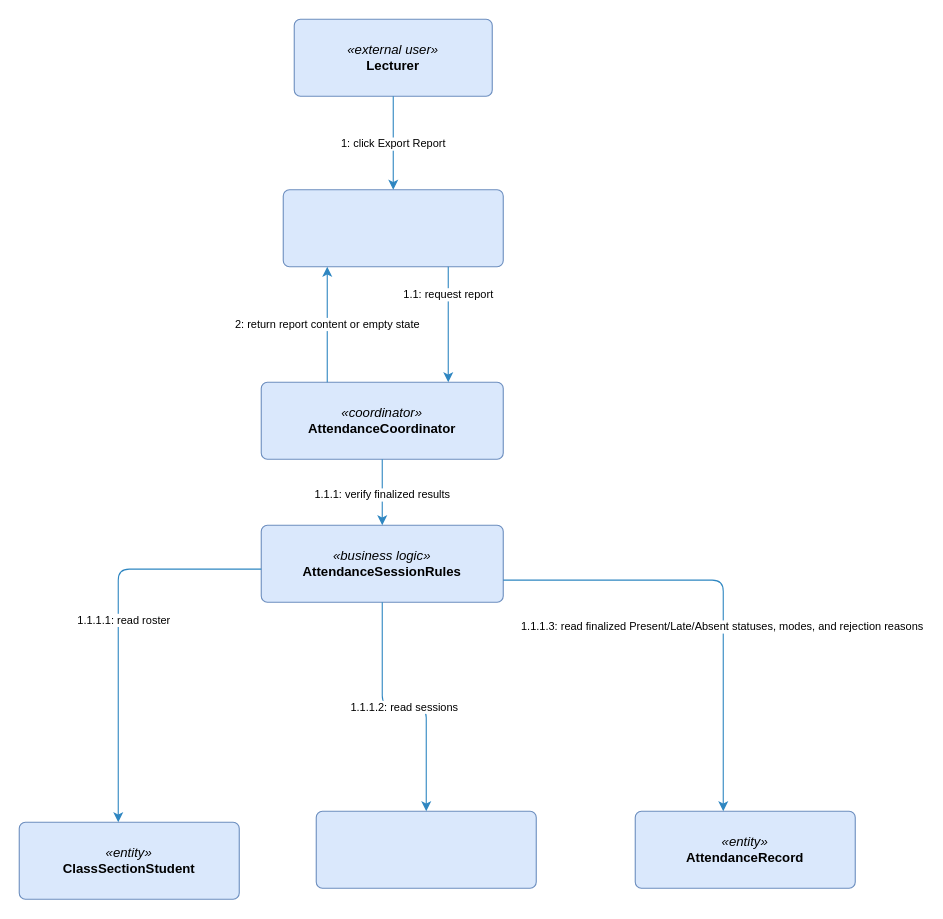
This 943x919 diagram has some shape labels left out. Here are the shapes that lost their labels. From the top down, the centre of each, then its label:
At (392,228): "«user interface» LecturerInterface".
At (425,849): "«entity» Session".
